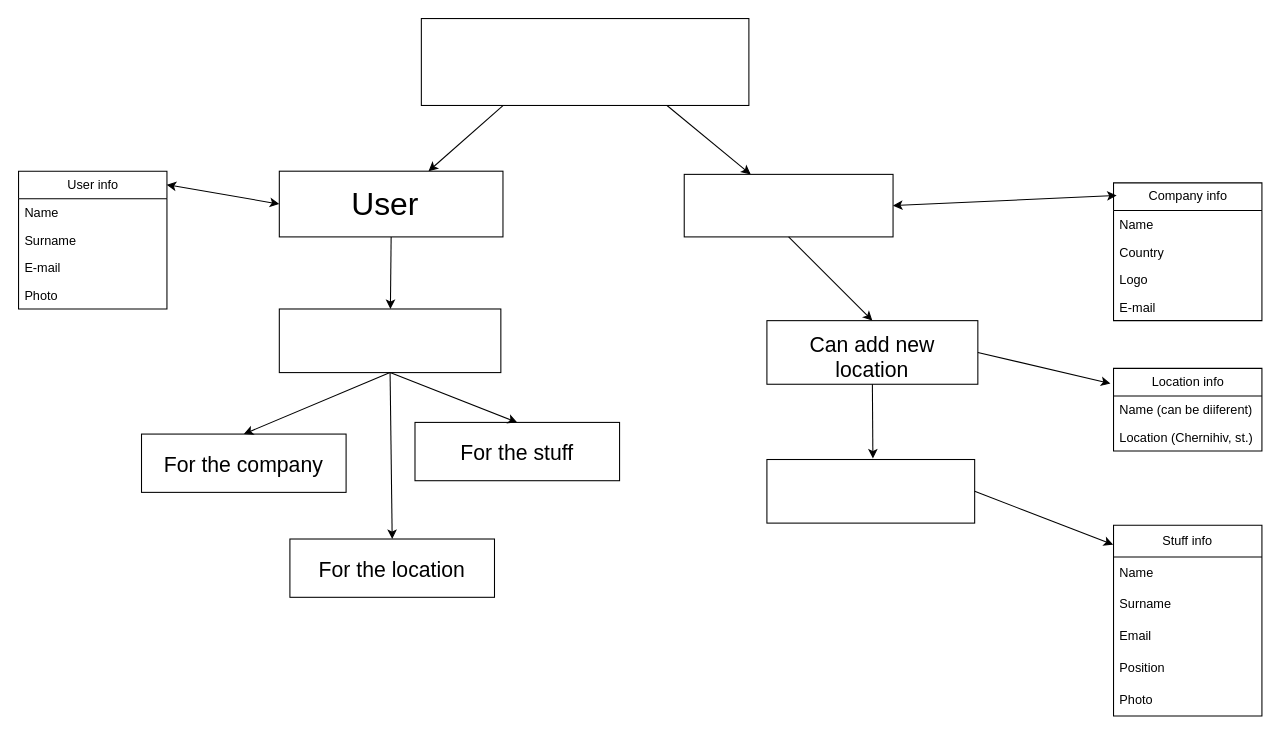
The diagram is 1280 pixels wide and 735 high, and some of its shapes have lost their labels. Each missing label, with the centre of its shape:
Can add new stuff: point (870, 490)
Can send a review: point (389, 340)
Company: point (788, 205)
Registration: point (584, 61)
